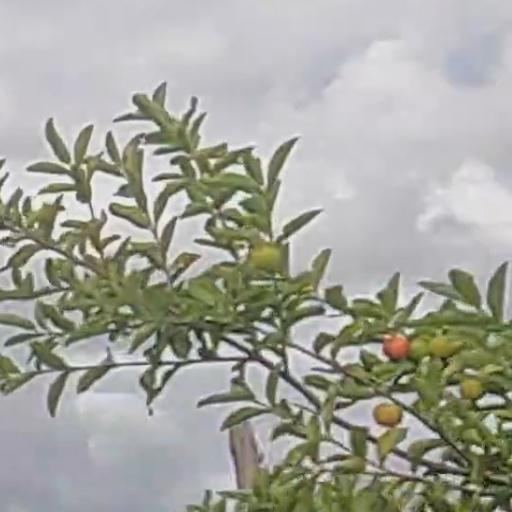acerola_verde: (424, 339, 457, 360)
acerola_vermelha: (376, 404, 402, 426), (382, 336, 405, 359)
